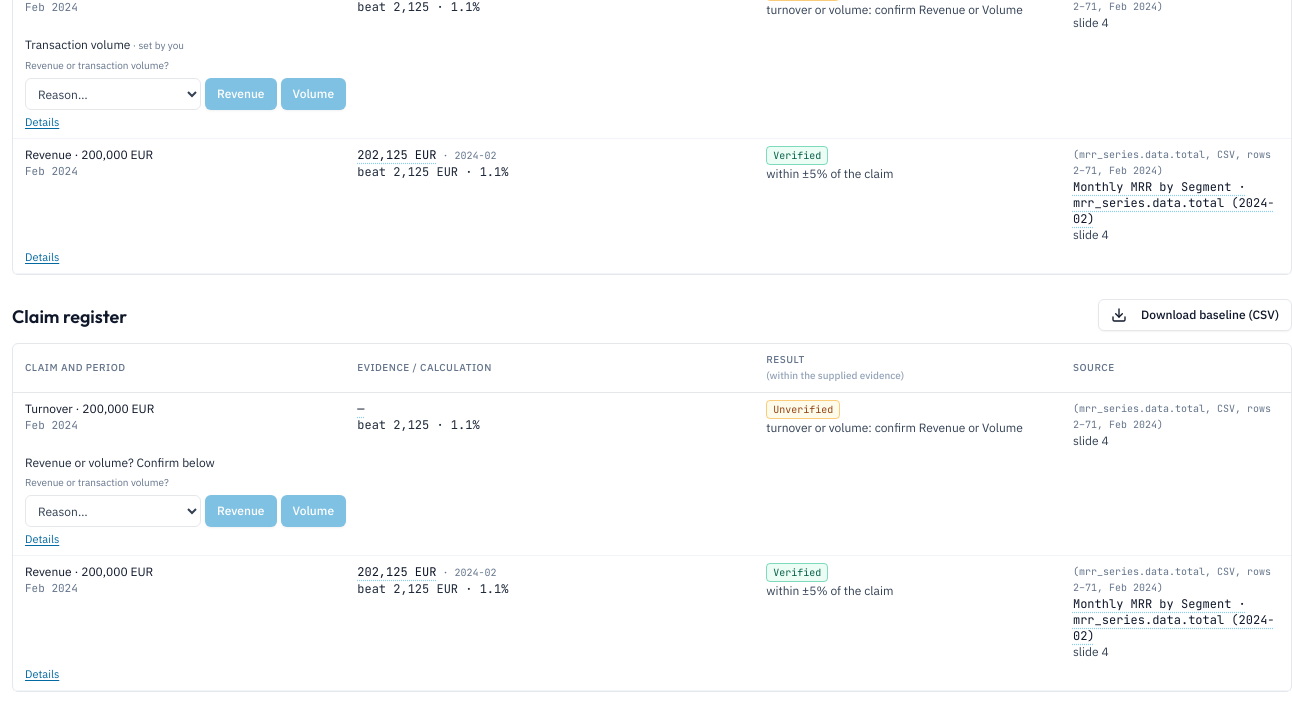
Test: a turnover row shows its label, the question and one click Revenue or Volume with a reason code
(page scrolled)
Expected: the text with test id "register-turnover-note" reads "Revenue or volume? Confirm below", [25,455,215,470]
Expected: the table with test id "claim-register-row" shows "Revenue or transaction volume?", [25,476,169,489]
Click the button with test id "register-turnover-volume": (313, 511) [280,495,346,527]
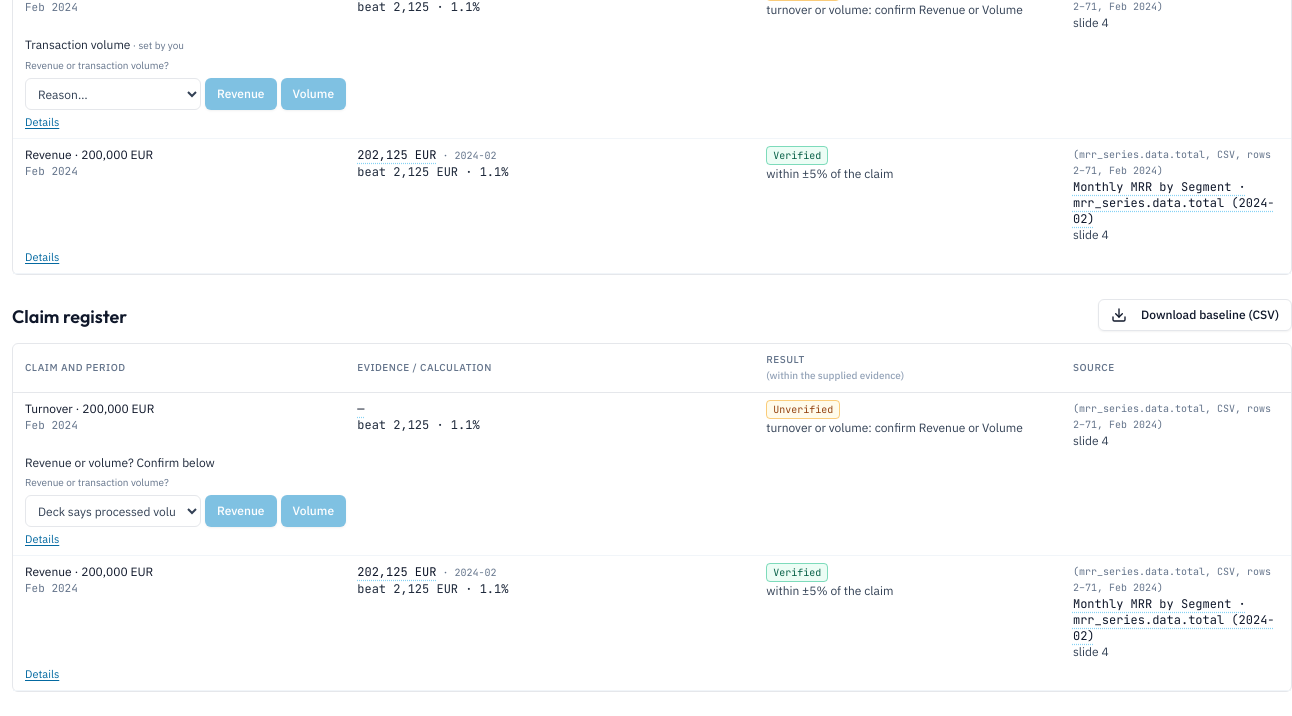
Select "Deck says processed volume" in the 2nd dropdown with test id "register-turnover-reason": (113, 511) [25,495,201,527]
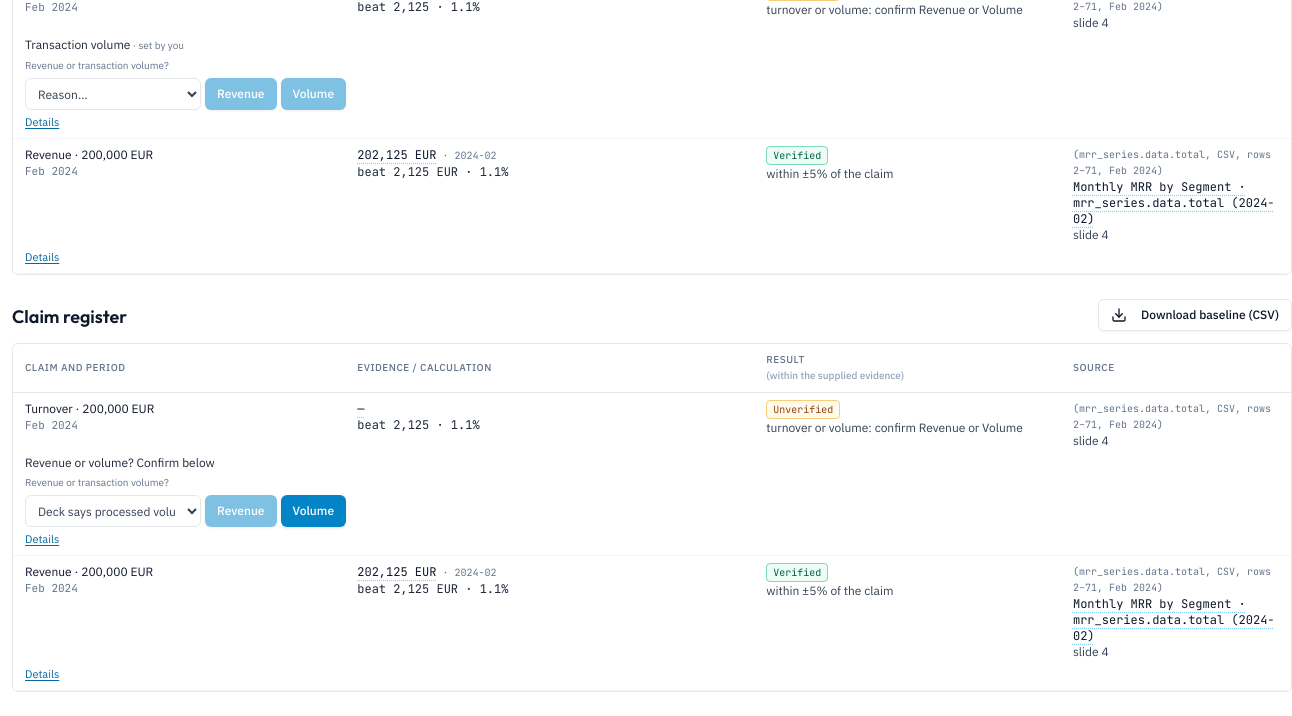
Click the button with test id "register-turnover-volume": (313, 511) [280,495,346,527]
(page scrolled)
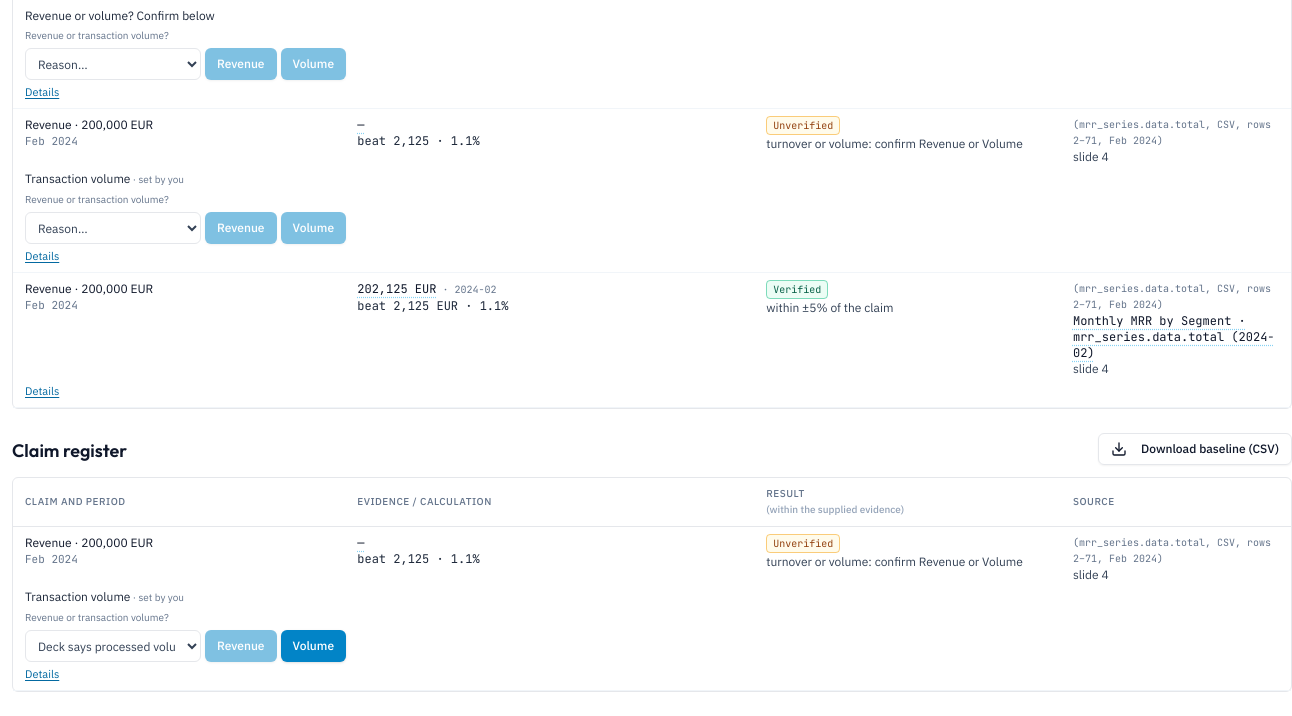
Result: the 2nd element with test id "register-turnover-note" shows "Transaction volume" at [25,589,130,604]
